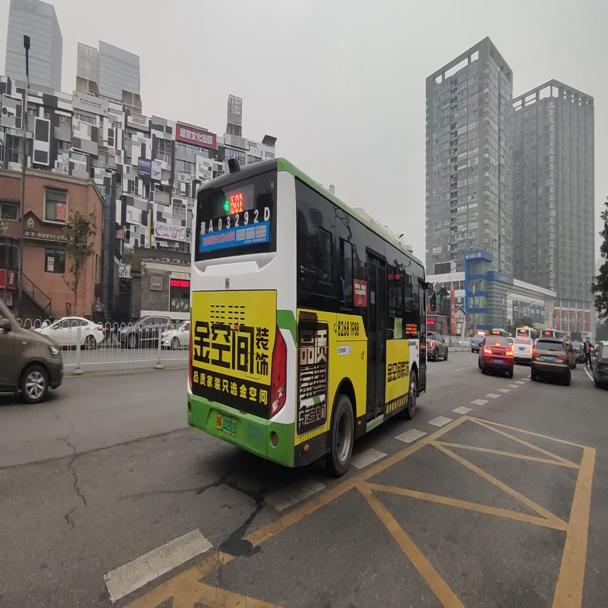bus: (180, 148, 437, 477)
screen: (229, 191, 243, 214)
